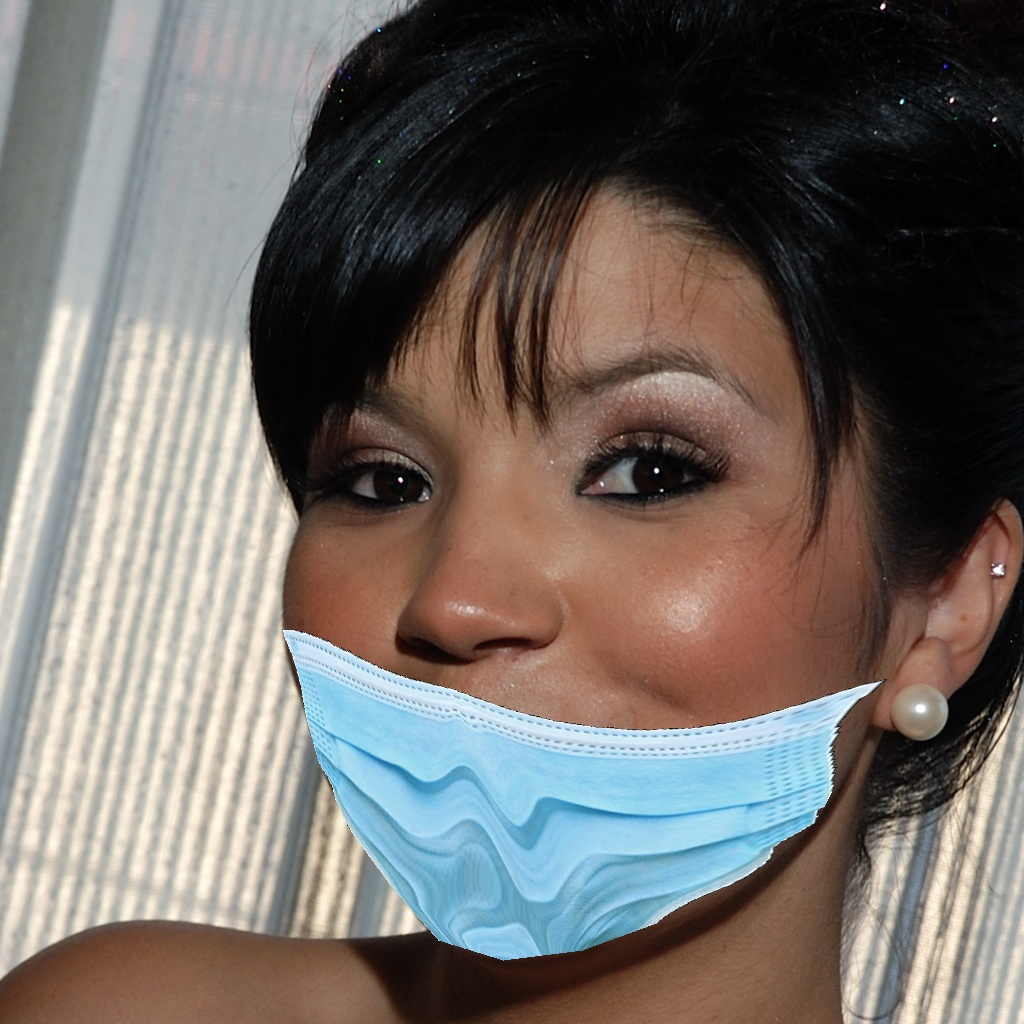mask_weared_incorrect: (248, 358, 918, 967)
